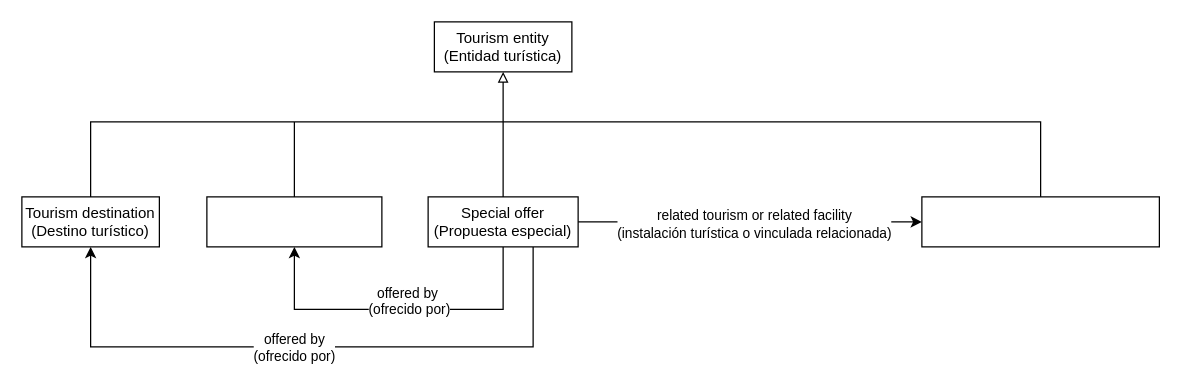
The diagram is 1181 pixels wide and 385 high, and some of its shapes have lost their labels. Each missing label, with the centre of its shape:
"Tourism or related facility (Instalación turística o vinculada)" goes at point 1040,221.
"Tourism organisation (Organización turística)" goes at point 294,221.
